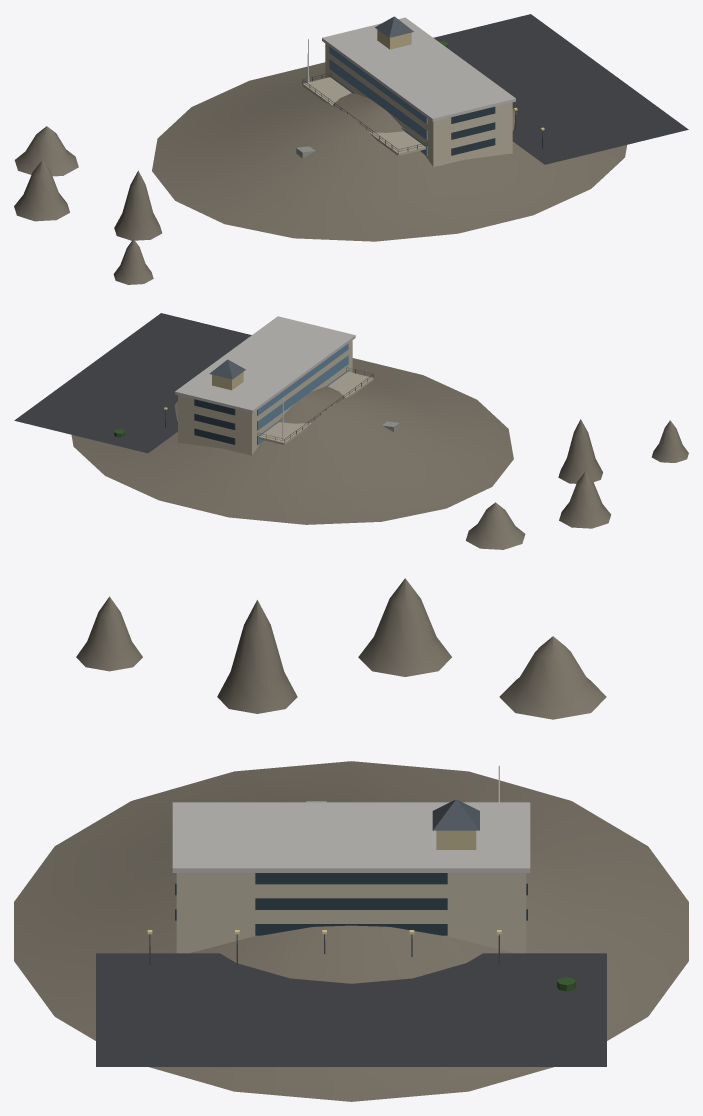
Rendered from desktop.glb.
3 views of the same model, one above another, from view 1: azimuth 30°, elevation 25°; view 2: azimuth 150°, elevation 25°; view 3: azimuth 270°, elevation 25° (orthographic). The views are drawn at different scales.
Parts seen in each view (by area): view 1: lm.cliff-house; view 2: lm.cliff-house; view 3: lm.cliff-house.
Part boxes in pixels (x1,y1,x2,y2): lm.cliff-house: [14, 14, 688, 284]; lm.cliff-house: [14, 313, 688, 549]; lm.cliff-house: [14, 578, 688, 1101].
Bounding box in the file's own units: 160 × 26.2 × 100.
